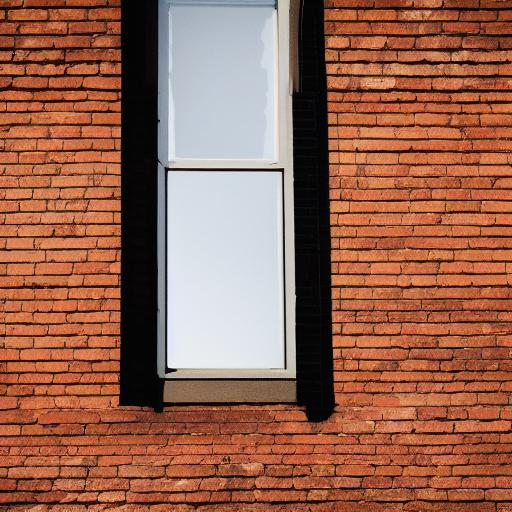Window: (115, 5, 340, 426)
